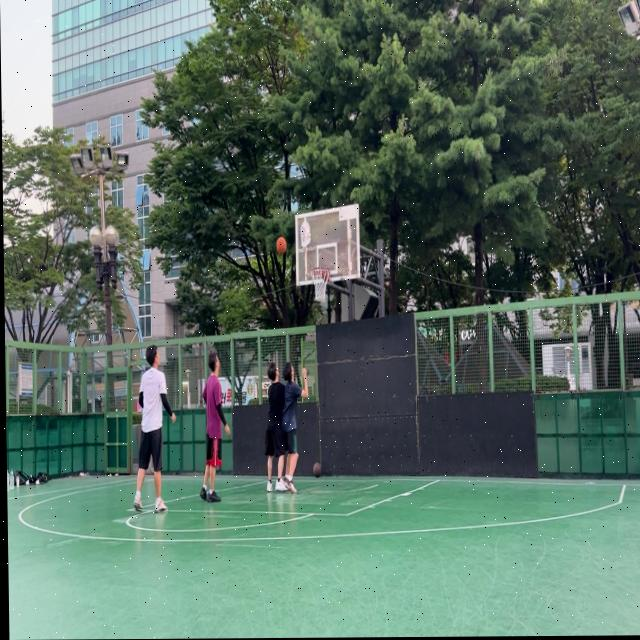basketball: (276, 236, 286, 255), (312, 461, 323, 478)
hoop: (309, 265, 331, 303)
